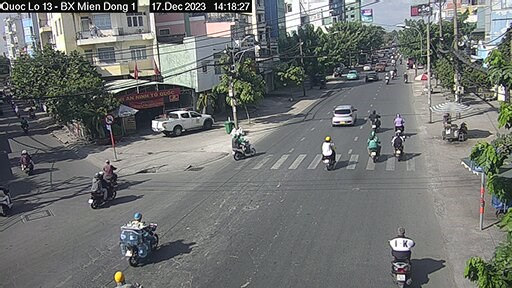car: (149, 110, 218, 136), (336, 105, 359, 127), (345, 70, 359, 80), (365, 73, 378, 82)
motorbike: (126, 211, 167, 266), (391, 235, 418, 286), (86, 172, 119, 208), (230, 134, 262, 162), (363, 134, 384, 164), (389, 136, 412, 162), (20, 149, 40, 176), (370, 106, 384, 134)
